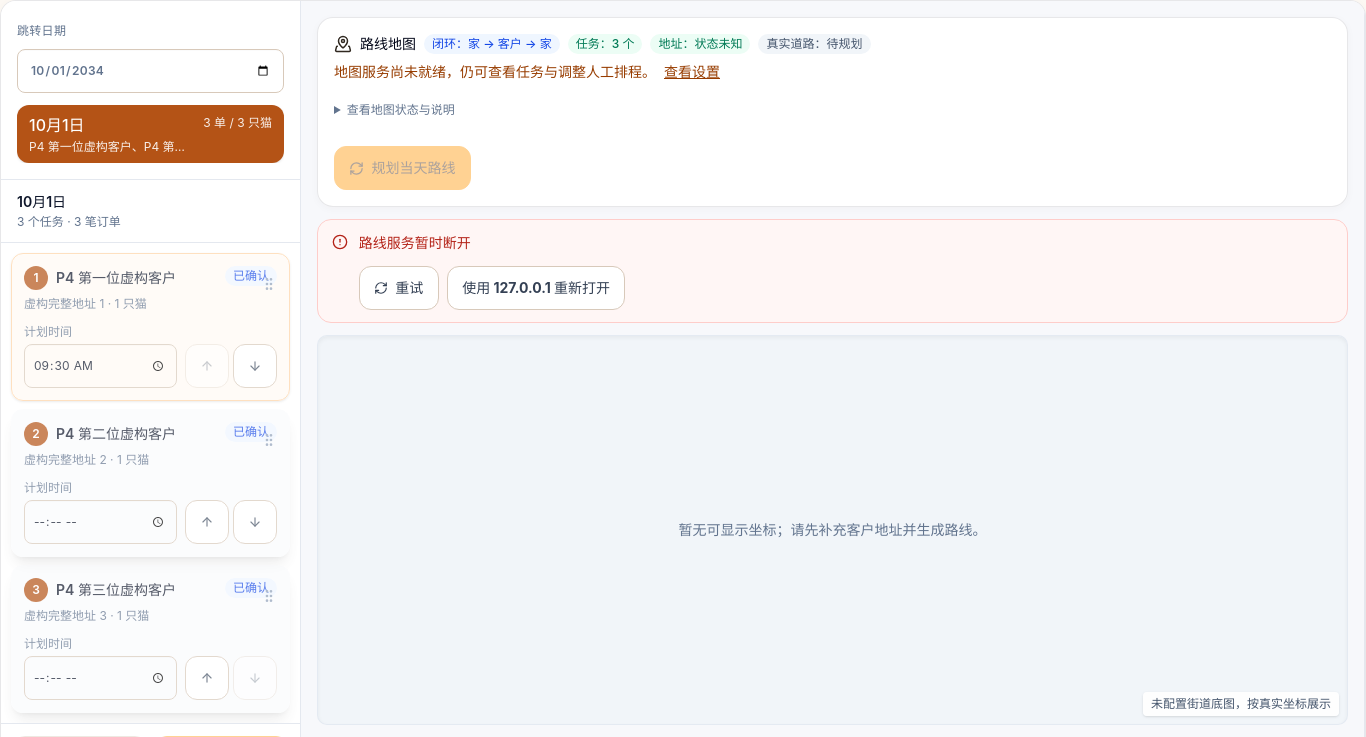
Test: ends route loading after failure, reports unknown status, and retries
The width and height of the screenshot is (1366, 737).
Expected: the message shows "路线服务暂时断开", [359,234,471,251]
Expected: the text "真实道路：待规划" is shown, [758,34,870,54]
Click the button "重试" at (399, 288), box [359,266,439,310]
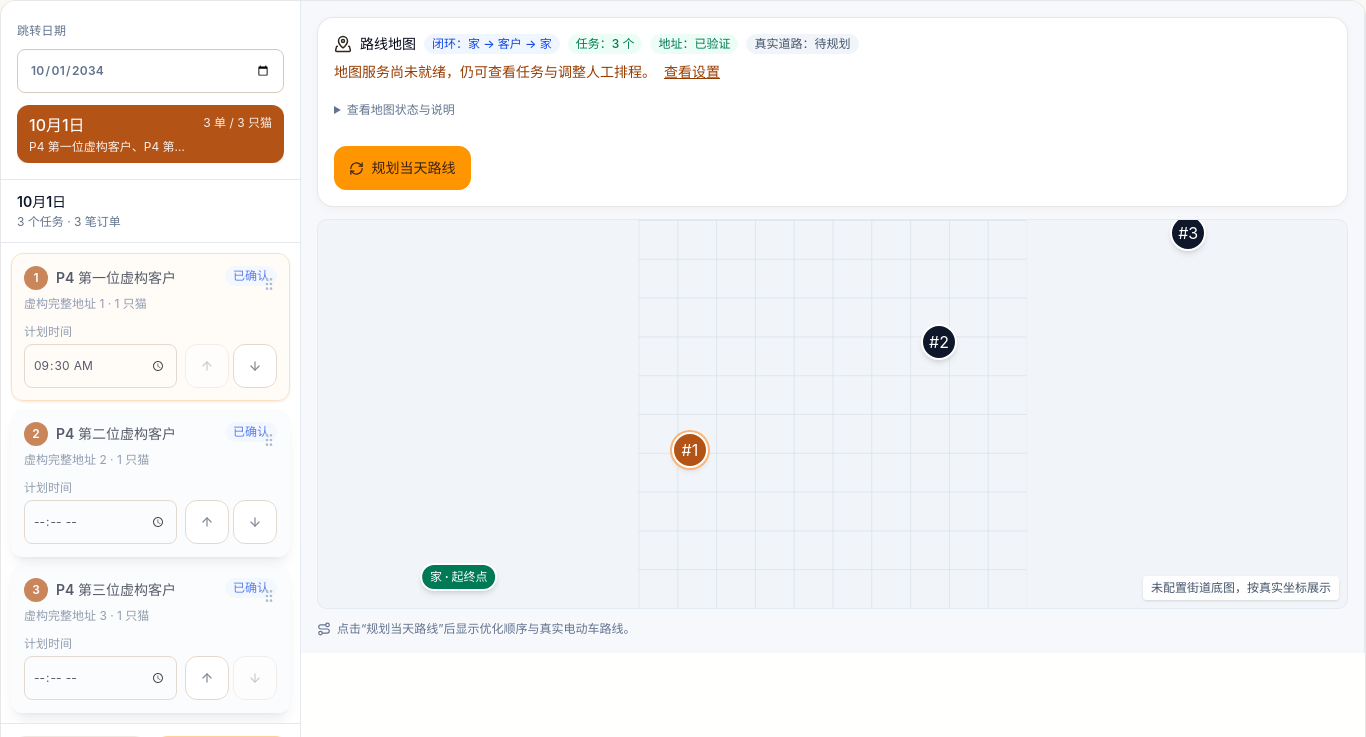
Expected: the message "路线服务暂时断开 重试 使用 127.0.0.1 重新打开" is gone
